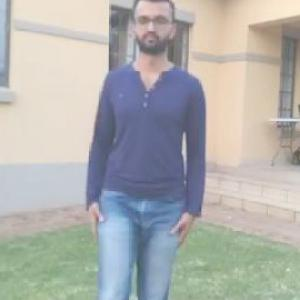follow: (95, 1, 206, 299)
